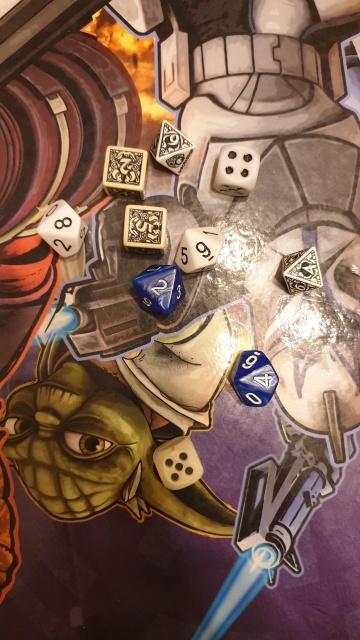d10-2: (138, 262, 177, 307)
d10-4: (230, 343, 281, 414)
d10-8: (36, 194, 93, 266)
d10-9: (173, 226, 235, 277)
d6-4: (215, 139, 258, 193)
d6-5: (150, 433, 205, 492)
d6p-2: (101, 140, 147, 198)
d6p-5: (120, 201, 170, 257)
d8p-4: (278, 243, 327, 300)
d8p-6: (152, 117, 199, 180)
